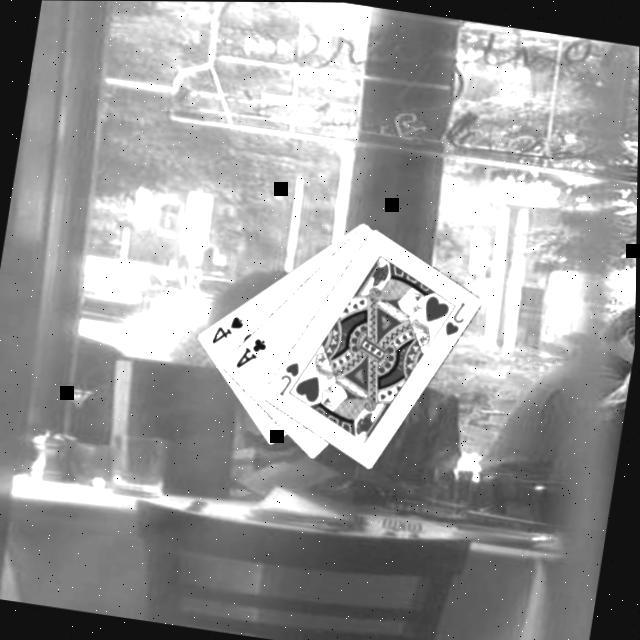4S: (211, 309, 250, 349)
AC: (234, 331, 273, 373)
JH: (276, 356, 307, 401), (443, 295, 474, 340)
